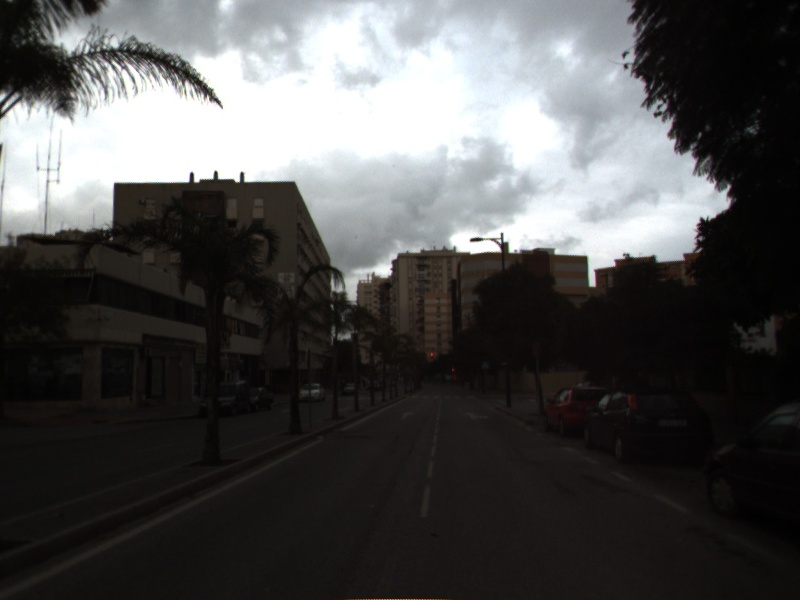STRAIGHT: (399, 410, 416, 421)
STRAIGHT_RIGHT: (462, 410, 491, 422)
